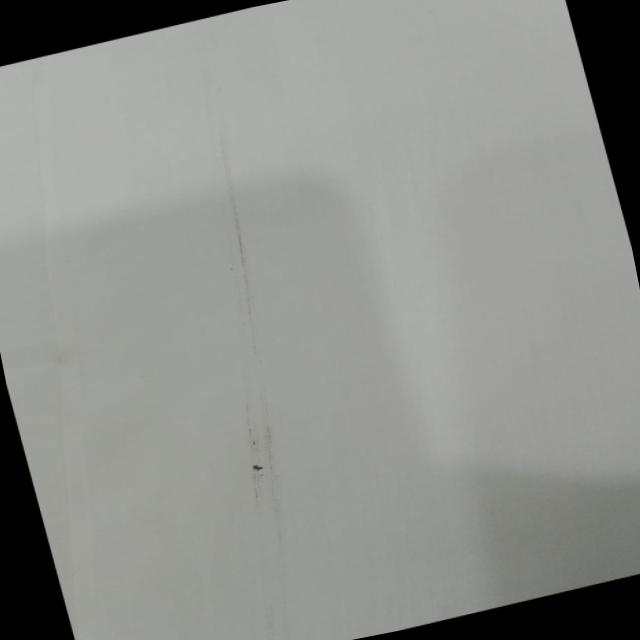stain: (192, 156, 284, 356), (212, 416, 300, 505)
